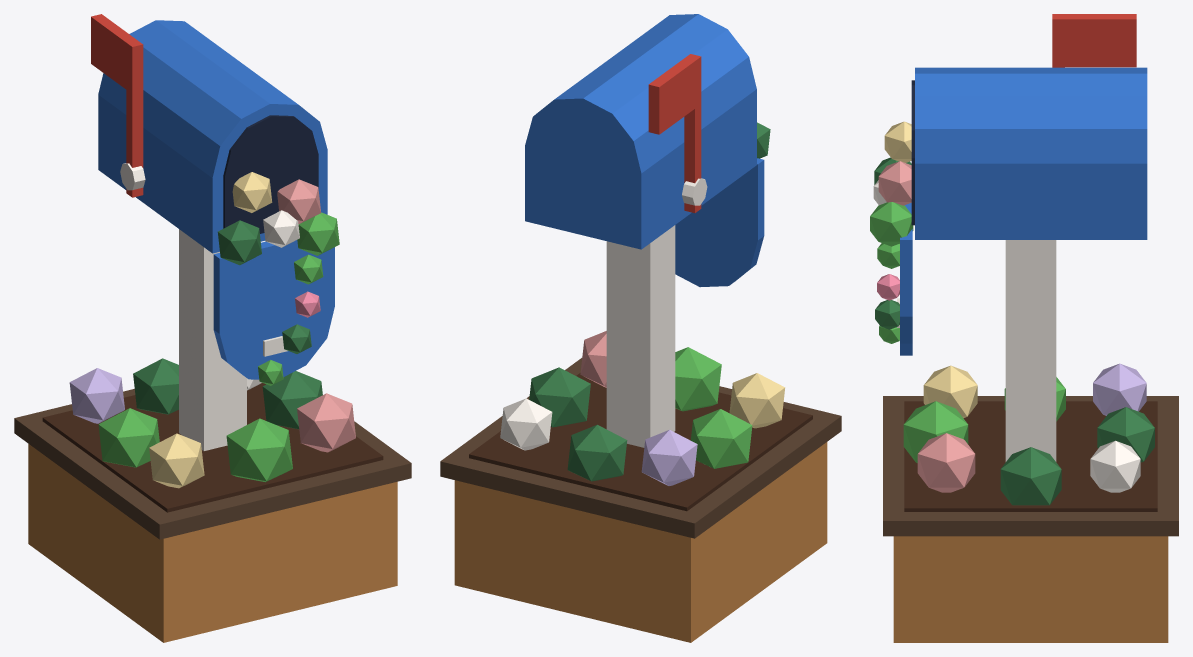
File: CatCafe_Decor_MailboxPlanter.glb
The picture shows the model from 3 angles, left to right: view 1: azimuth 30°, elevation 25°; view 2: azimuth 150°, elevation 25°; view 3: azimuth 270°, elevation 25°; orthographic projection.
Visible parts, largest first — view 1: CatCafe_Decor_MailboxPlanter; view 2: CatCafe_Decor_MailboxPlanter; view 3: CatCafe_Decor_MailboxPlanter.
Boxes of the visible parts, x1,y1,x2,y2 form: CatCafe_Decor_MailboxPlanter: [14, 14, 411, 642]; CatCafe_Decor_MailboxPlanter: [440, 14, 841, 642]; CatCafe_Decor_MailboxPlanter: [870, 14, 1178, 642].
Bounding box in the file's own units: 1.4 × 2.8 × 1.46.
1 material, 1 textured.
